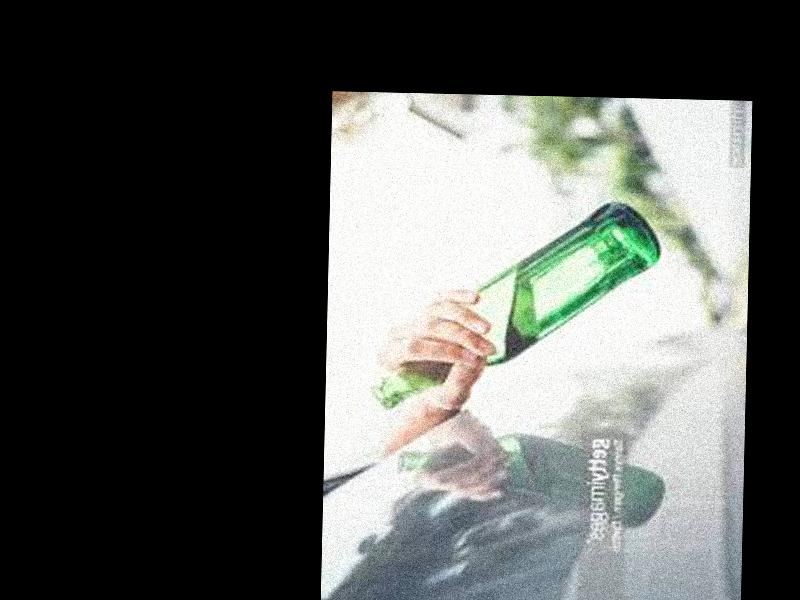Beer: (375, 196, 660, 418)
